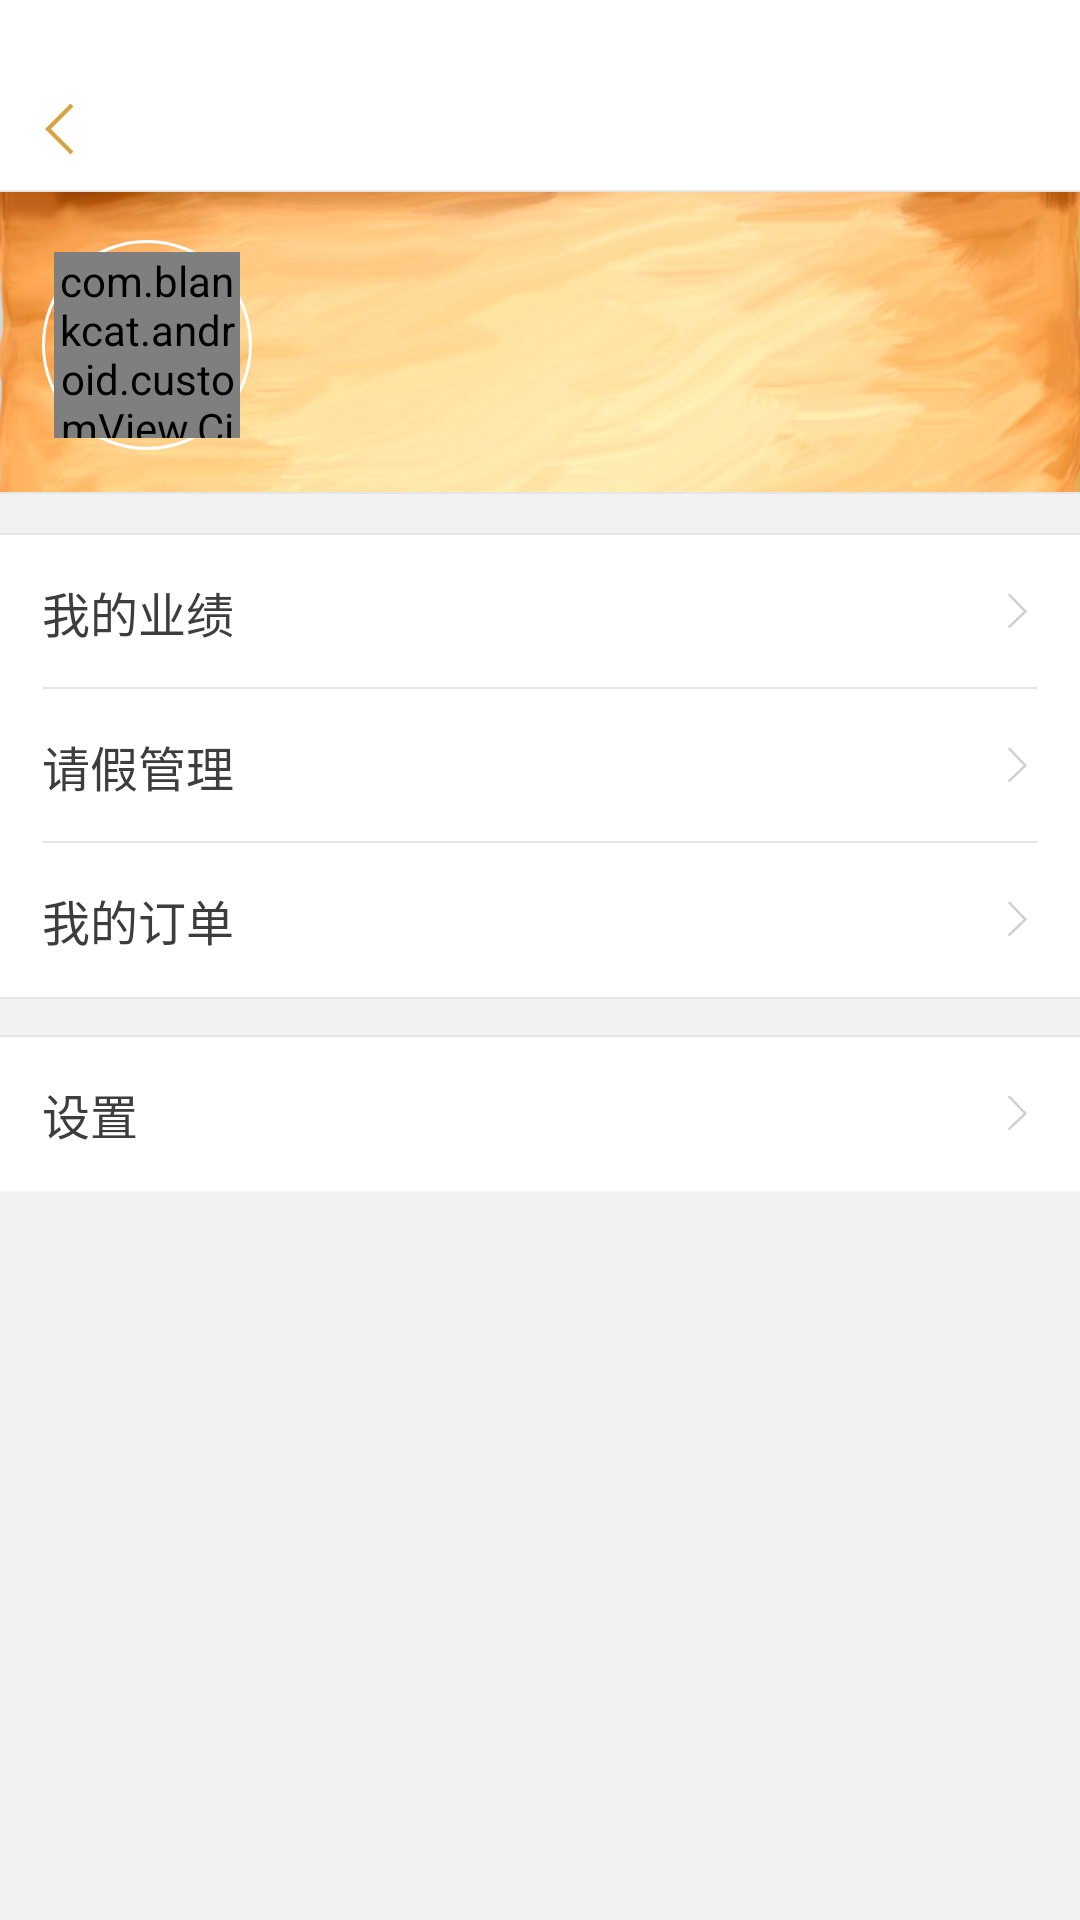

Icons on this 1080w x 1920h Android screen, each with the point to tap as (x,y):
back: (59,129)
